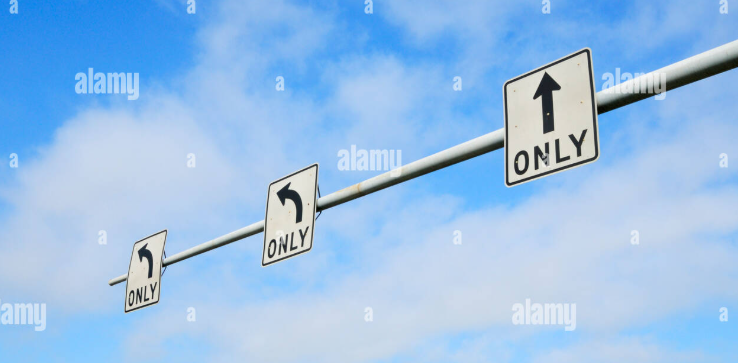Left Turn Only: (251, 184, 304, 262), (116, 245, 155, 309)
